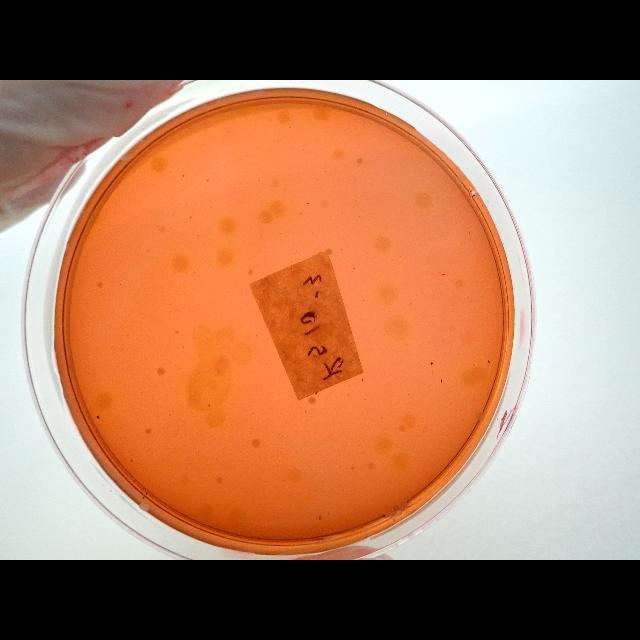colony: (180, 172, 186, 180), (486, 358, 492, 366), (96, 414, 100, 420), (468, 230, 472, 236), (480, 202, 484, 208), (440, 378, 444, 384), (442, 273, 446, 277), (430, 362, 434, 366), (352, 266, 356, 270)
